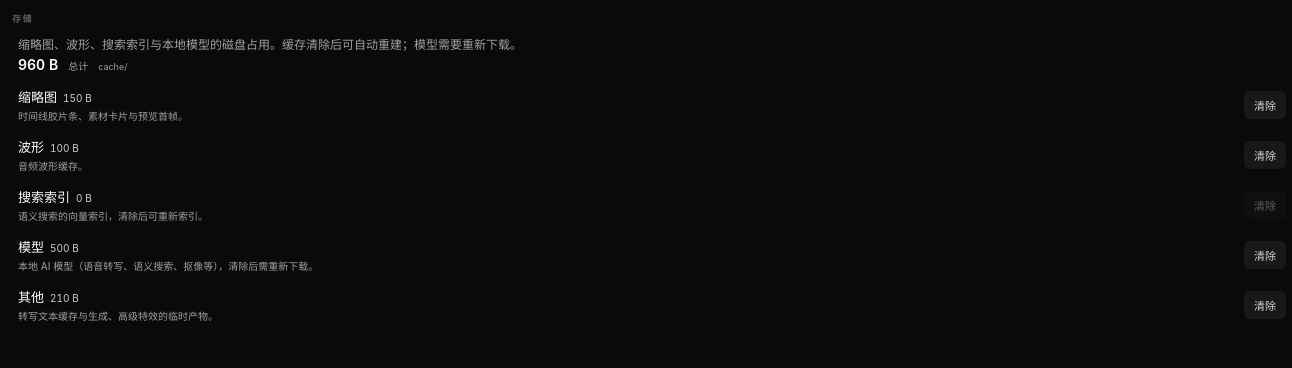
surfaces a clear failure and keeps the previous snapshot
Click the button "清除" in the row of "转写文本缓存与生成、高级特效的临时产物。": [1265, 305] box 1244,291 -> 1286,319
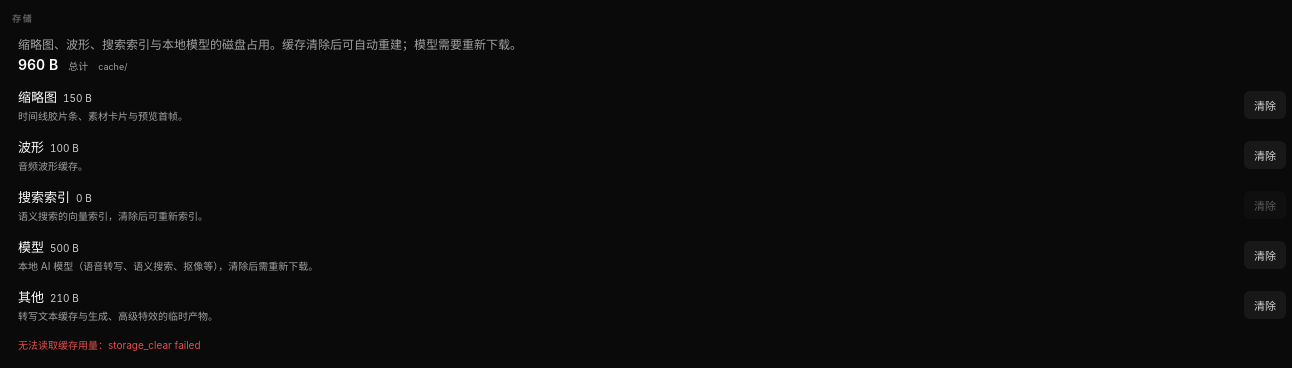
Check: the text "210 B" is shown, box 50,292 -> 79,304
Check: the message "无法读取缓存用量：storage_clear failed" is shown, box 18,339 -> 201,351
